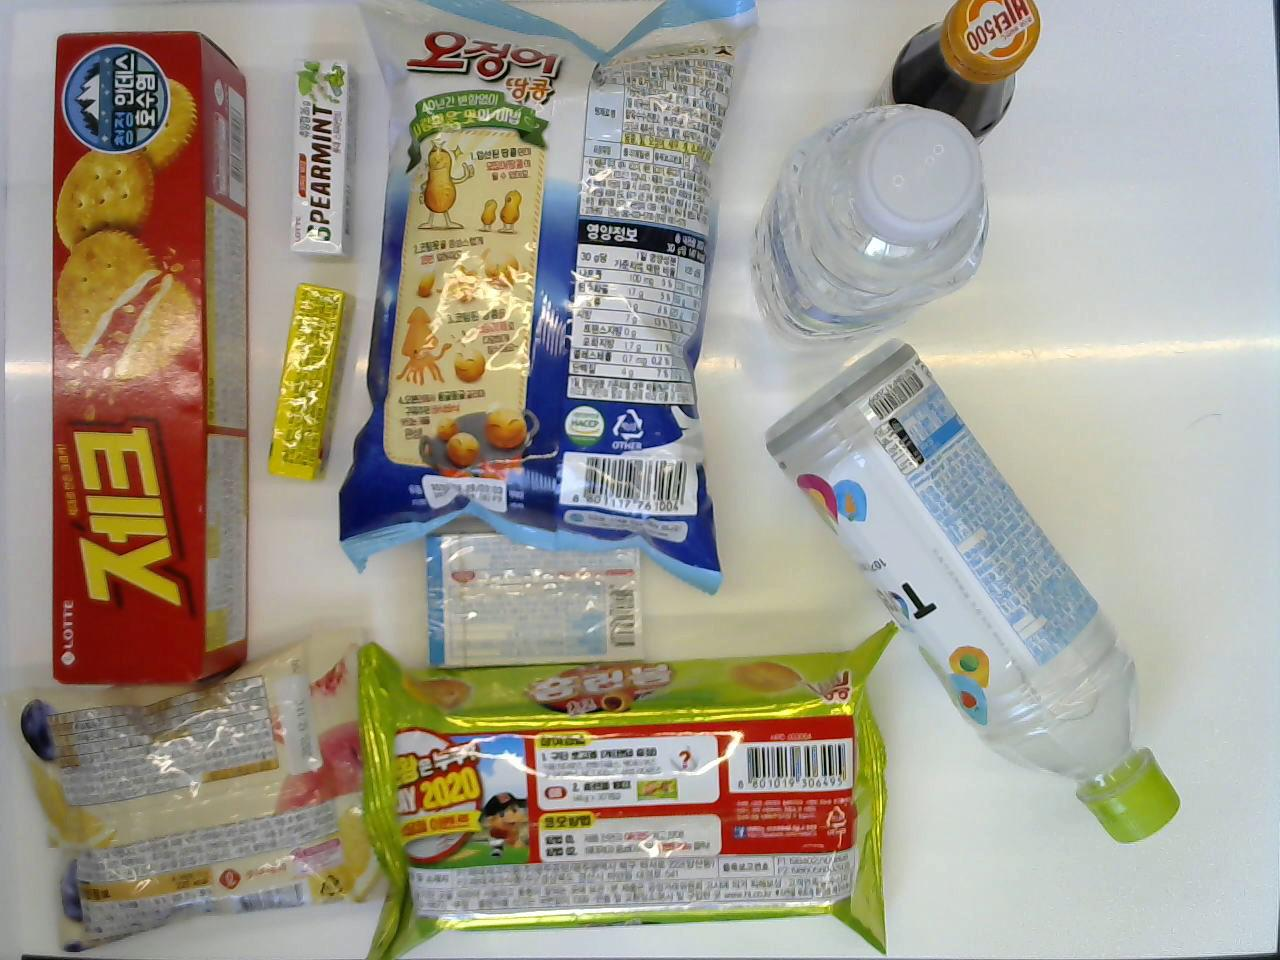ID_gum: (426, 528, 648, 674)
gumi_gumi: (8, 608, 396, 954)
homerunball: (348, 621, 895, 956)
juicyfresh: (267, 279, 362, 487)
samdasu: (750, 103, 988, 344)
spearmint: (287, 47, 357, 264)
squid_peanut: (332, 0, 759, 601)
toreta: (760, 338, 1185, 846)
vita500: (867, 0, 1043, 152)
zec: (46, 27, 260, 682)
